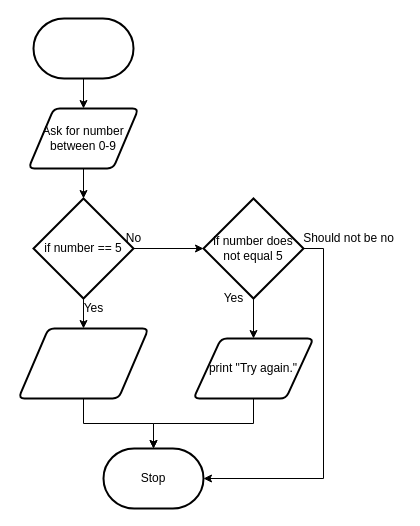
This 420x526 diagram has some shape labels left out. Here are the shapes that lost their labels. From the top down, the centre of each, then its label:
the point at 83,48: Start
the point at 83,363: print "YAY! You guessed the correct number!"
